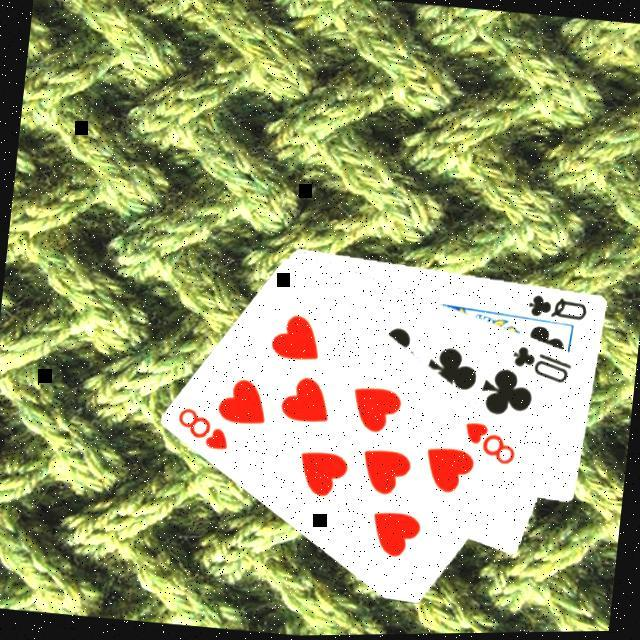10C: (505, 340, 575, 388)
8H: (457, 416, 520, 469), (170, 400, 233, 453)
QC: (522, 288, 589, 324)
